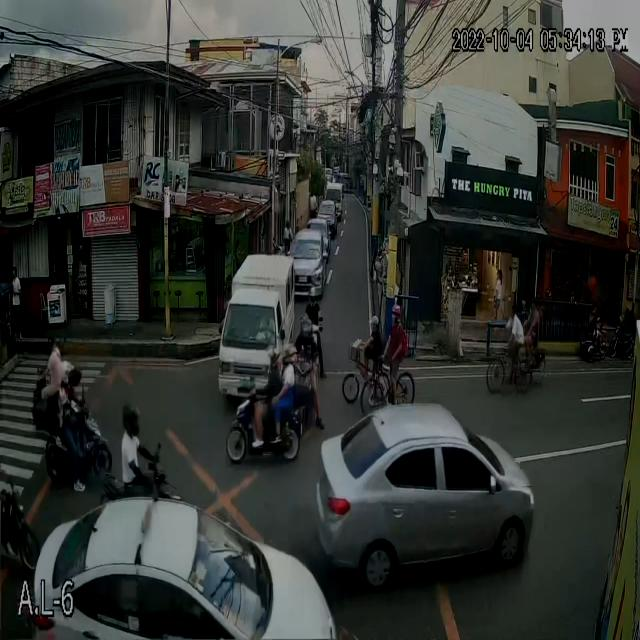Full-Faced: (120, 399, 141, 434), (298, 318, 316, 347), (59, 359, 77, 387), (277, 346, 295, 374), (307, 278, 320, 306), (267, 346, 278, 369)
Invalid: (42, 332, 60, 349)
